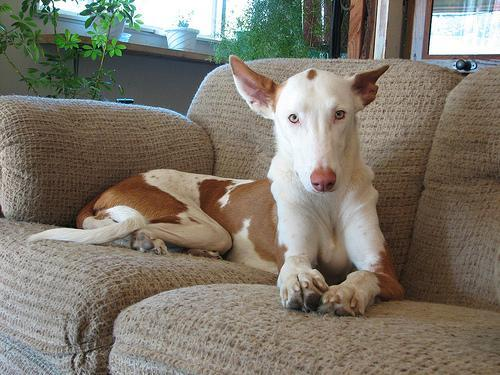Ibizan_hound: (27, 54, 407, 318)
